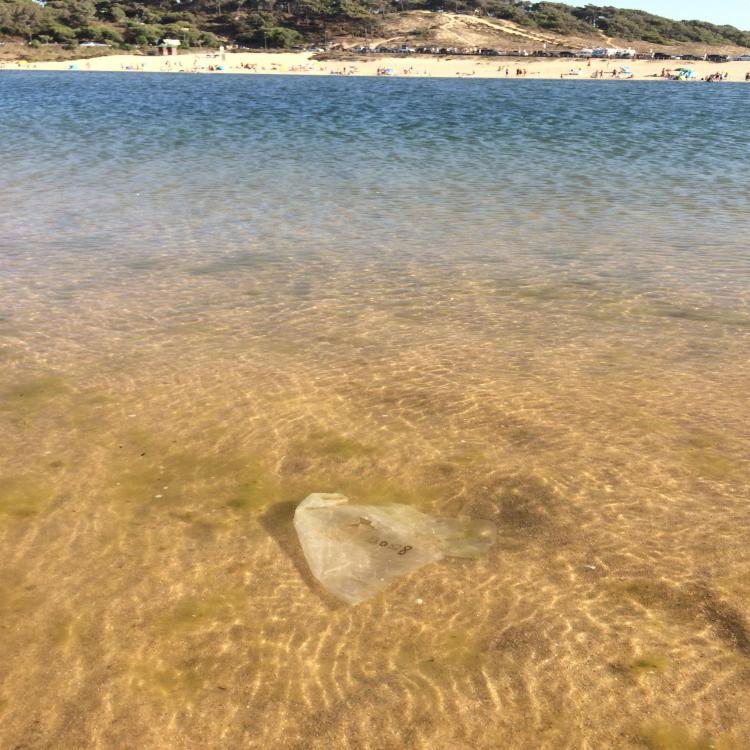Plastic film: (294, 492, 498, 605)
